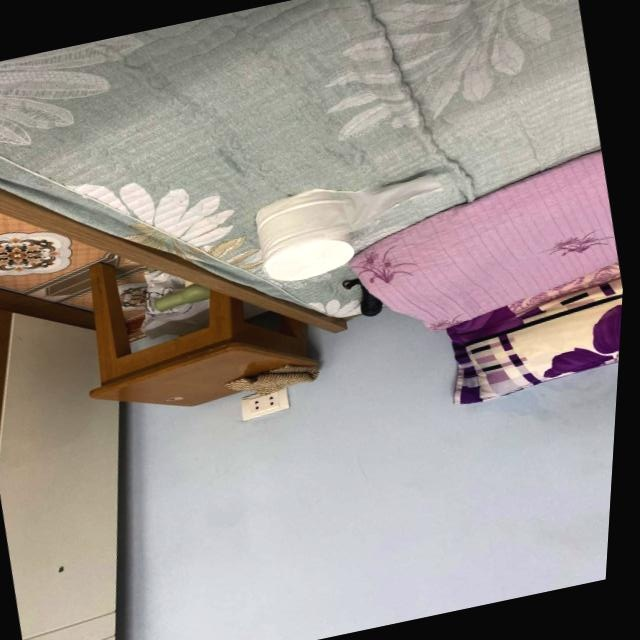outlet: (238, 384, 294, 420)
